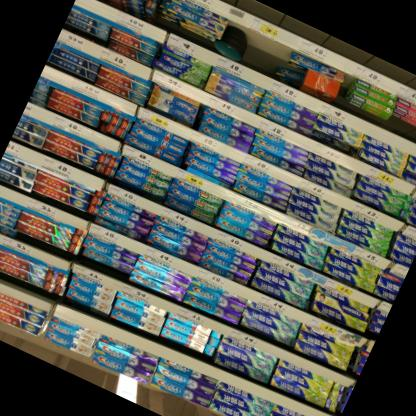empty_space: (244, 30, 287, 73)
